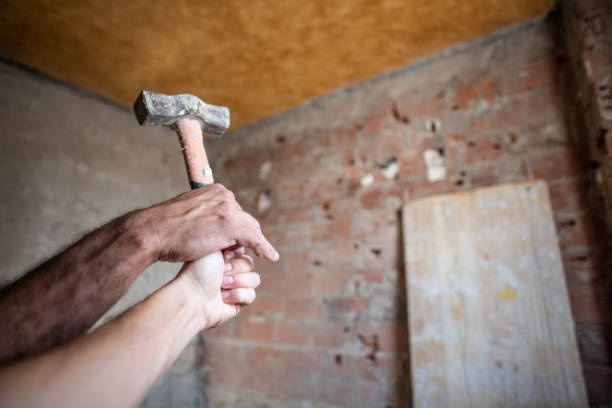hammer: (131, 87, 237, 286)
